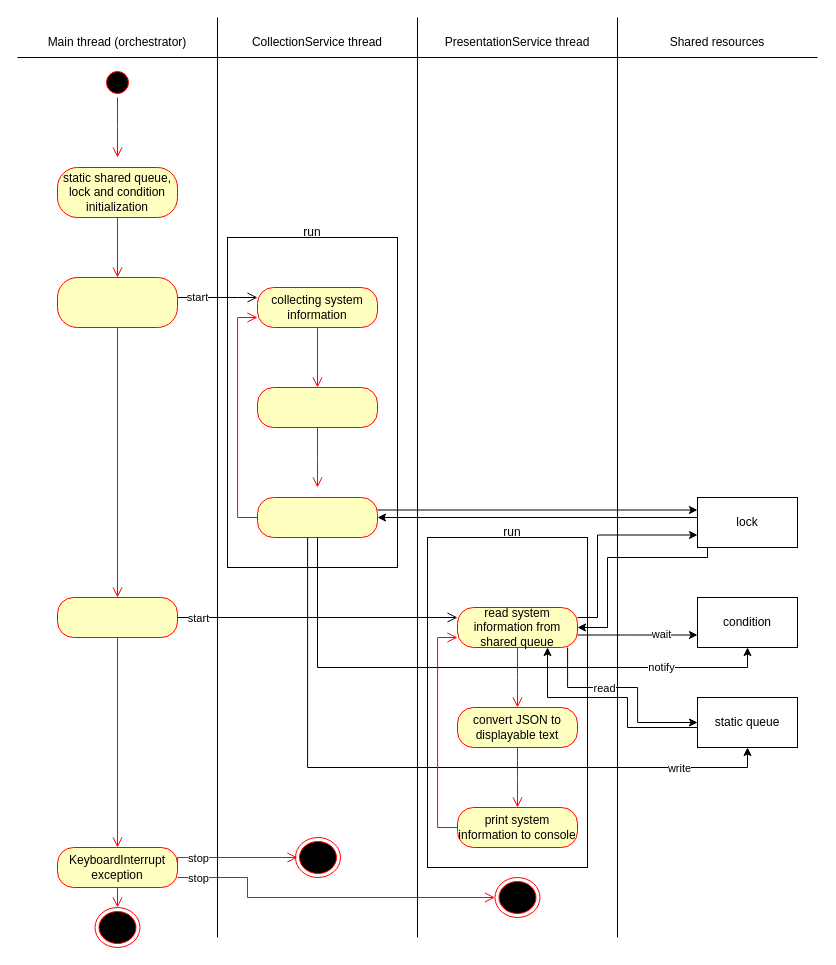
Image size: 836x965. Some labels were removed from this diagram. The shapes that lost their labels are listed below. From the top down, each one's box as (x1, y1, x2, y2) in pixels, then its label:
(56, 276, 178, 328): new instance of CollectionService is initialized
(256, 386, 378, 428): convert to JSON
(256, 496, 378, 538): sending system information to shared queue
(56, 596, 178, 638): new instance of PresentationService is initialized
